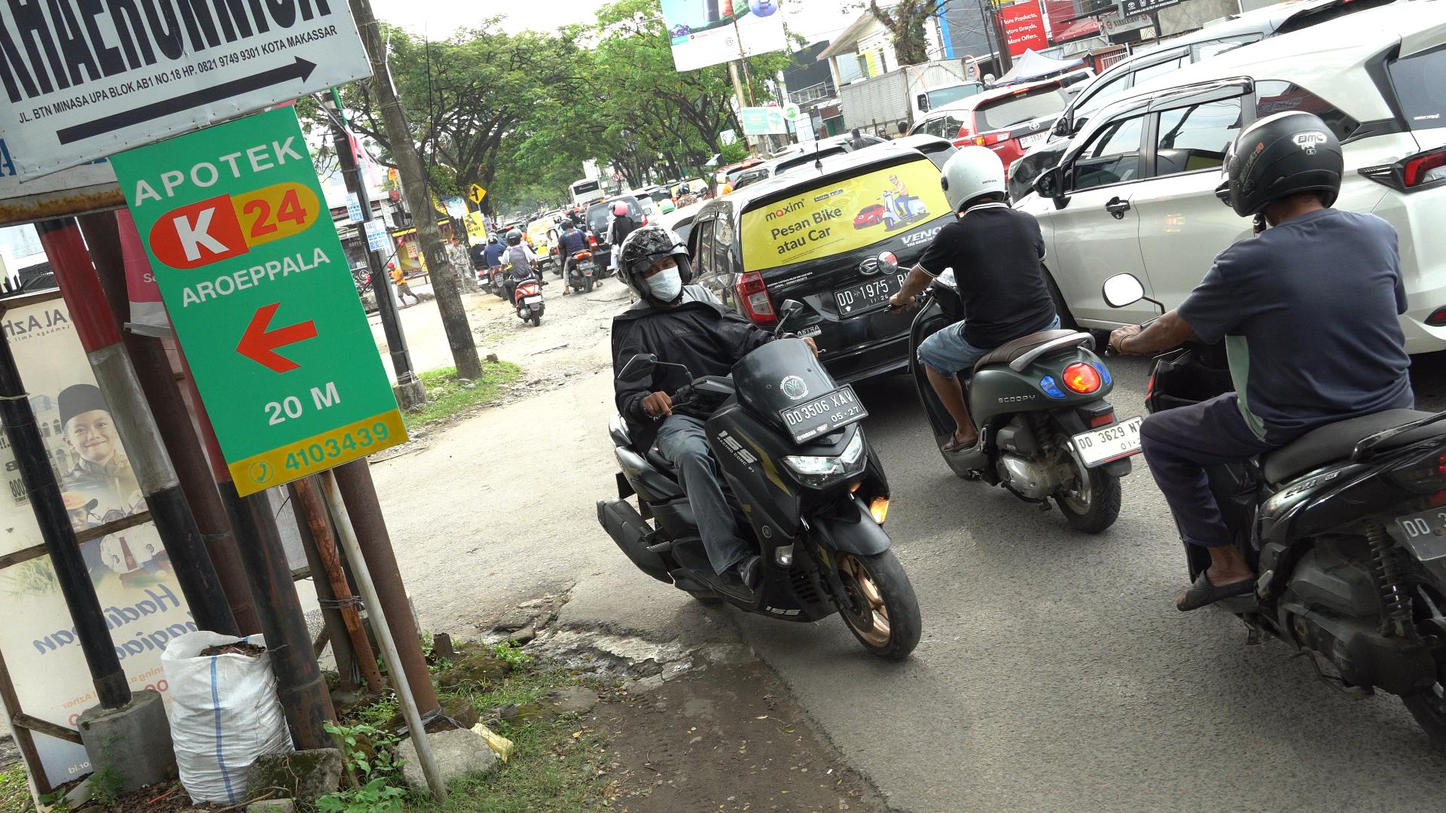number-plate: (779, 377, 872, 448)
